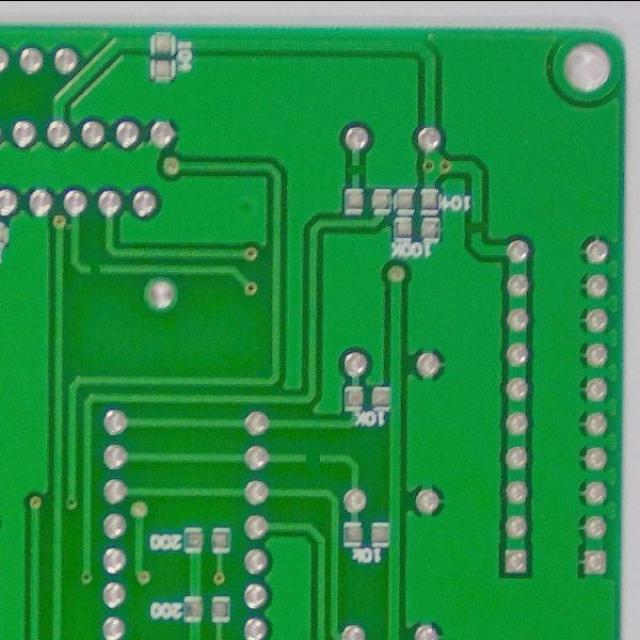Open_Circuit: (292, 445, 333, 469), (78, 256, 113, 281), (463, 214, 492, 241), (346, 159, 367, 179)
